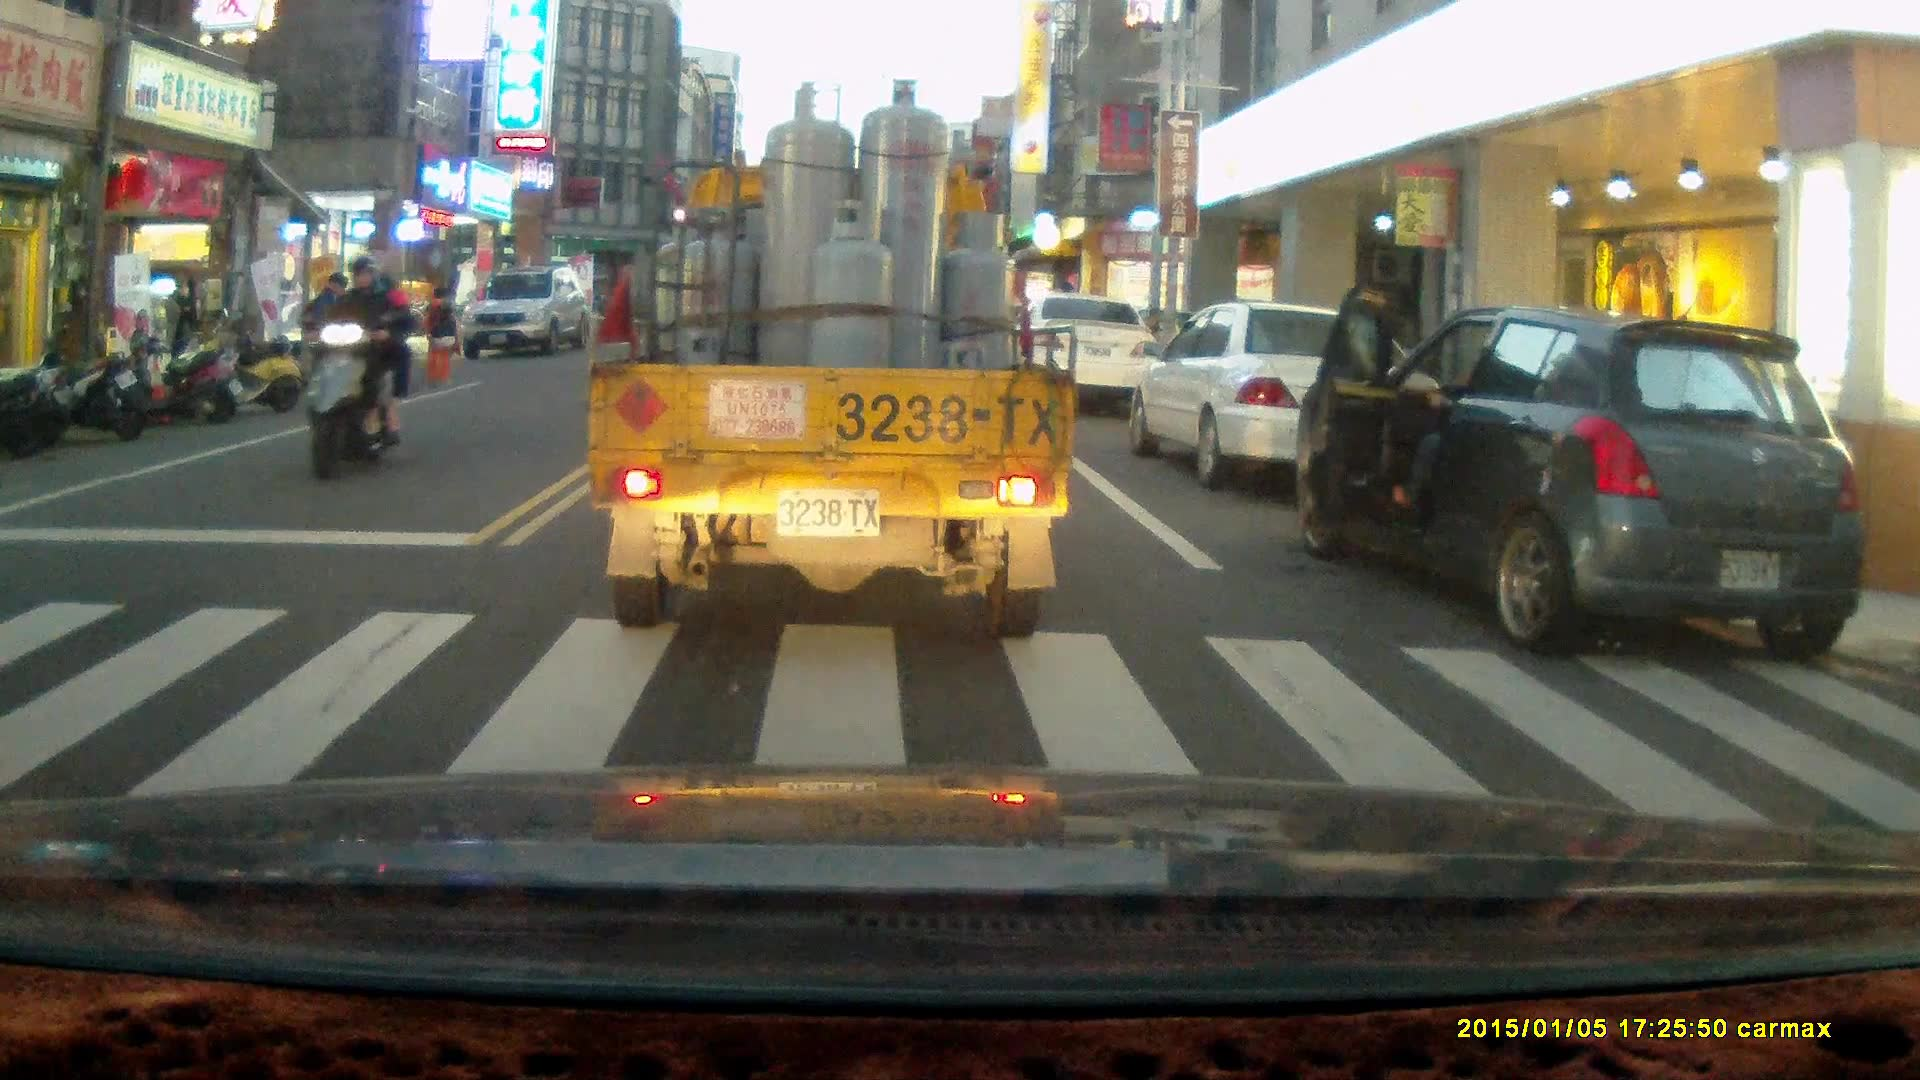pedestrian: (421, 285, 461, 385), (159, 281, 195, 393)
rider: (303, 254, 414, 480)
vehicle: (583, 70, 1073, 640), (1293, 311, 1866, 672), (1131, 306, 1436, 491), (1026, 295, 1160, 413), (459, 270, 591, 365)
